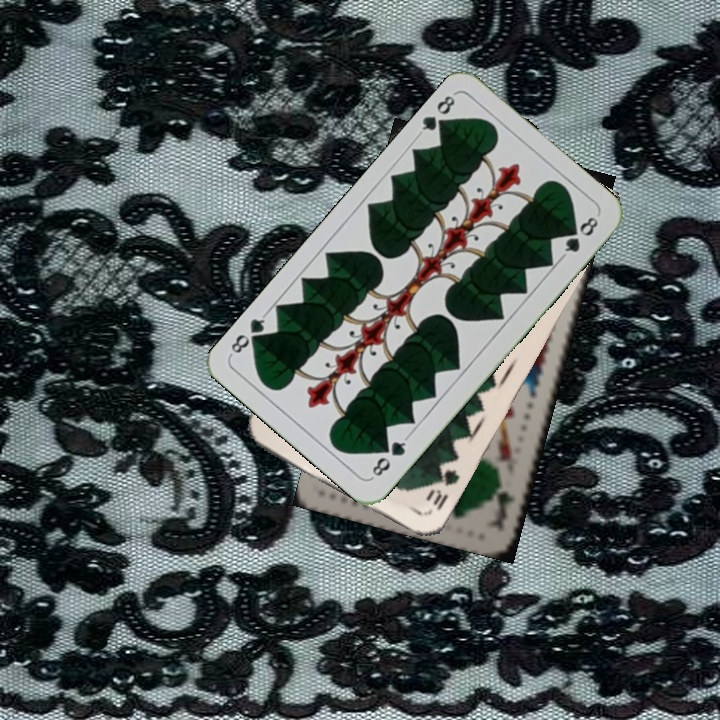G10: (421, 457, 462, 514)
G8: (367, 432, 411, 481), (414, 89, 458, 138)
GK: (493, 476, 518, 528)
